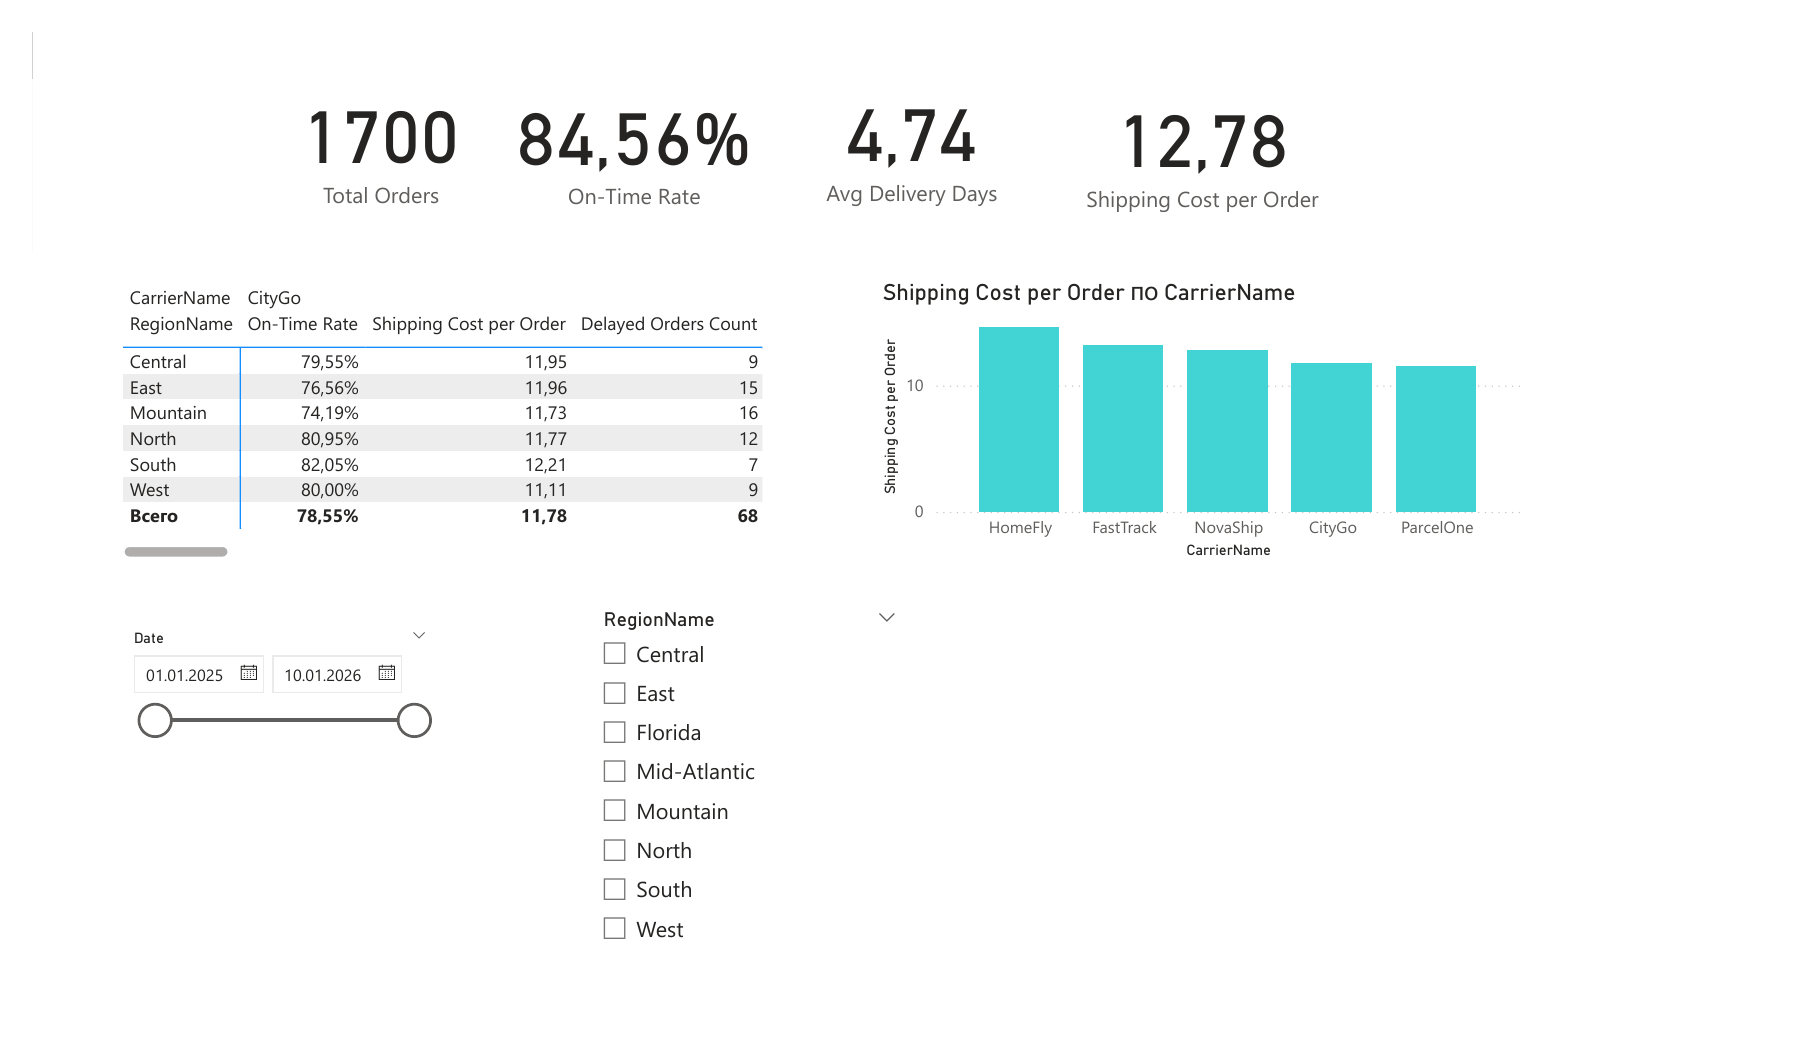

The dashboard page shown, as its layout file describes it:
{"tool":"powerbi","page":{"name":"Carrier & Region Details","canvas":[1280,720],"ordinal":1},"visuals":[{"type":"card","fields":{"Values":["Shipments.Total Orders"]},"box":[179,26.3,156.6,110.9],"z":0},{"type":"card","fields":{"Values":["Shipments.On-Time Rate"]},"box":[335.6,26.3,217.9,112.8],"z":1000},{"type":"card","fields":{"Values":["Shipments.Avg Delivery Days"]},"box":[543.7,26.3,211.1,108],"z":2000},{"type":"card","fields":{"Values":["Shipments.Shipping Cost per Order"]},"box":[754.8,26.3,217.9,116.7],"z":3000},{"type":"pivotTable","fields":{"Rows":["Regions.RegionName"],"Columns":["Carriers.CarrierName"],"Values":["Shipments.On-Time Rate","Shipments.Shipping Cost per Order","Shipments.Delayed Orders Count"]},"box":[62.2,180.9,481.5,212],"z":4000},{"type":"clusteredColumnChart","fields":{"Category":["Carriers.CarrierName"],"Y":["Shipments.Shipping Cost per Order"]},"box":[623.5,180.9,480.5,212],"z":5000},{"type":"slicer","fields":{"Values":["Calendar.Date"]},"box":[62.2,435.7,241.2,105],"z":6000},{"type":"slicer","fields":{"Values":["Regions.RegionName"]},"box":[408.5,421.2,241.2,265.5],"z":7000}]}

Visuals, with their boxes in screenshot pixels (x1, y1, x2, y2), scaled from the page's 1280x720 canvas onto the 1799x1040 screenshot:
card - Shipments.Total Orders: left=252, top=38, right=472, bottom=198
card - Shipments.On-Time Rate: left=472, top=38, right=778, bottom=201
card - Shipments.Avg Delivery Days: left=764, top=38, right=1061, bottom=194
card - Shipments.Shipping Cost per Order: left=1061, top=38, right=1367, bottom=207
pivotTable - Regions.RegionName x Carriers.CarrierName: left=87, top=261, right=764, bottom=568
clusteredColumnChart - Carriers.CarrierName x Shipments.Shipping Cost per Order: left=876, top=261, right=1552, bottom=568
slicer - Calendar.Date: left=87, top=629, right=426, bottom=781
slicer - Regions.RegionName: left=574, top=608, right=913, bottom=992
